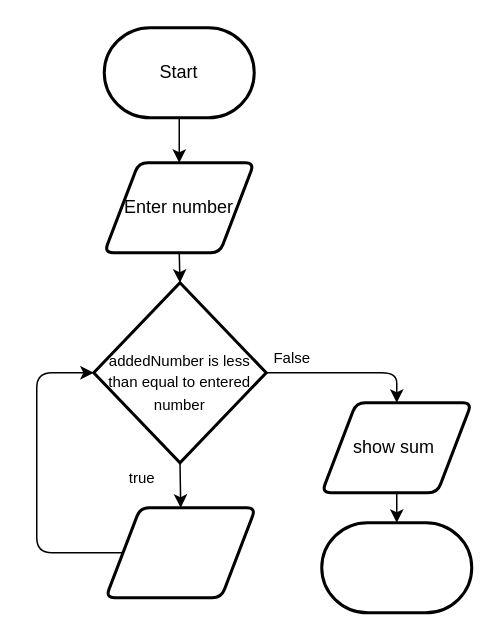
Some shapes in this 500 by 639 pixel diagram are drawn without their labels. The centre of each missing label's shape, as x and y in pixels:
"add 1 to addedNumber" belongs at [180,552].
"Stop" belongs at [396,567].
